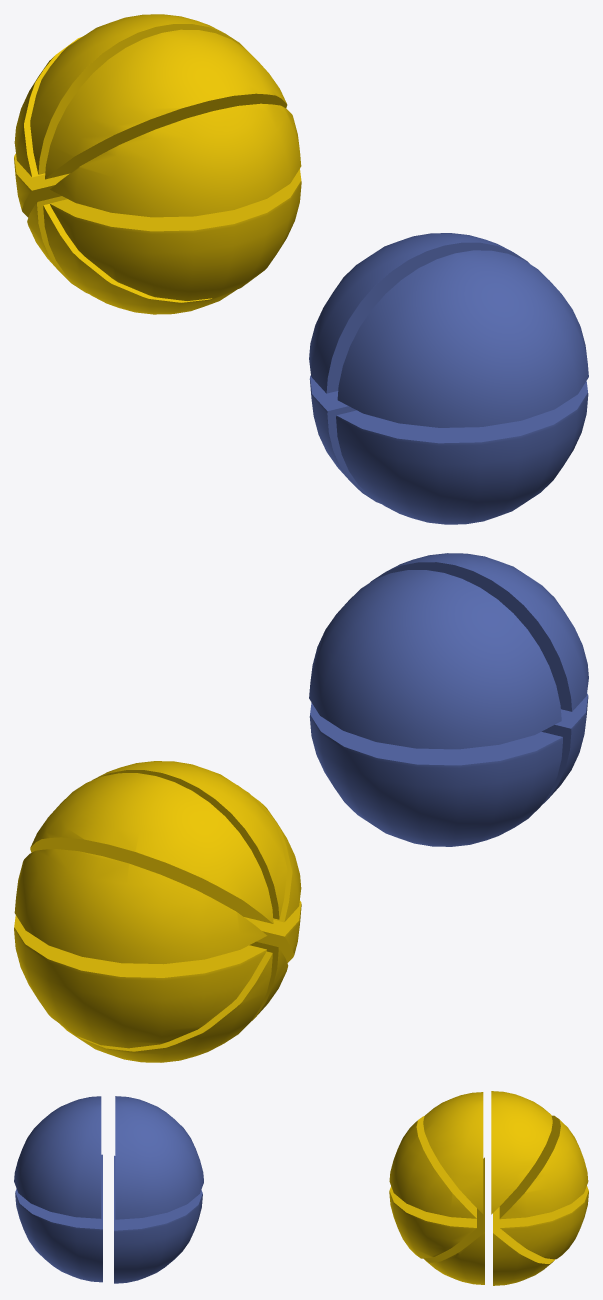
The model's file is devided.fbx.
3 renders of one model, top to bottom at view 1: azimuth 30°, elevation 25°; view 2: azimuth 150°, elevation 25°; view 3: azimuth 270°, elevation 25°, orthographic. The views are drawn at different scales.
Parts seen in each view (by area): view 1: polySurface1, polySurface2, polySurface7, polySurface9, polySurface6, polySurface3, polySurface12, polySurface5, polySurface4, polySurface8, polySurface11, polySurface10; view 2: polySurface3, polySurface4, polySurface8, polySurface12, polySurface11, polySurface1, polySurface9, polySurface10, polySurface2, polySurface6, polySurface7, polySurface5; view 3: polySurface3, polySurface1, polySurface12, polySurface9, polySurface4, polySurface8, polySurface2, polySurface7, polySurface11, polySurface6, polySurface5, polySurface10.
Boxes of the visible parts, x1,y1,x2,y2 form: polySurface1: (337, 250, 588, 427); polySurface2: (336, 381, 588, 524); polySurface7: (50, 103, 301, 217); polySurface9: (45, 29, 287, 179); polySurface6: (50, 169, 301, 300); polySurface3: (309, 233, 529, 393); polySurface12: (30, 14, 244, 174); polySurface5: (43, 204, 236, 314); polySurface4: (309, 375, 380, 503); polySurface8: (14, 36, 82, 177); polySurface11: (14, 153, 69, 217); polySurface10: (27, 196, 88, 293); polySurface3: (309, 570, 561, 749); polySurface4: (309, 702, 562, 846); polySurface8: (14, 849, 267, 964); polySurface12: (30, 773, 273, 923); polySurface11: (14, 915, 266, 1048); polySurface1: (370, 553, 588, 711); polySurface9: (92, 761, 287, 919); polySurface10: (60, 951, 272, 1062); polySurface2: (541, 693, 588, 804); polySurface6: (244, 900, 301, 962); polySurface7: (237, 785, 301, 922); polySurface5: (249, 941, 288, 1021); polySurface3: (115, 1096, 203, 1219); polySurface1: (14, 1096, 101, 1218); polySurface12: (491, 1091, 552, 1214); polySurface9: (423, 1092, 483, 1213); polySurface4: (114, 1155, 202, 1283); polySurface8: (499, 1115, 588, 1219); polySurface2: (15, 1154, 102, 1282); polySurface7: (389, 1116, 476, 1218); polySurface11: (500, 1186, 588, 1259); polySurface6: (389, 1186, 476, 1258); polySurface5: (424, 1157, 484, 1284); polySurface10: (493, 1207, 554, 1285).
Bounding box in the file's own units: 2 × 2.22 × 6.47.
